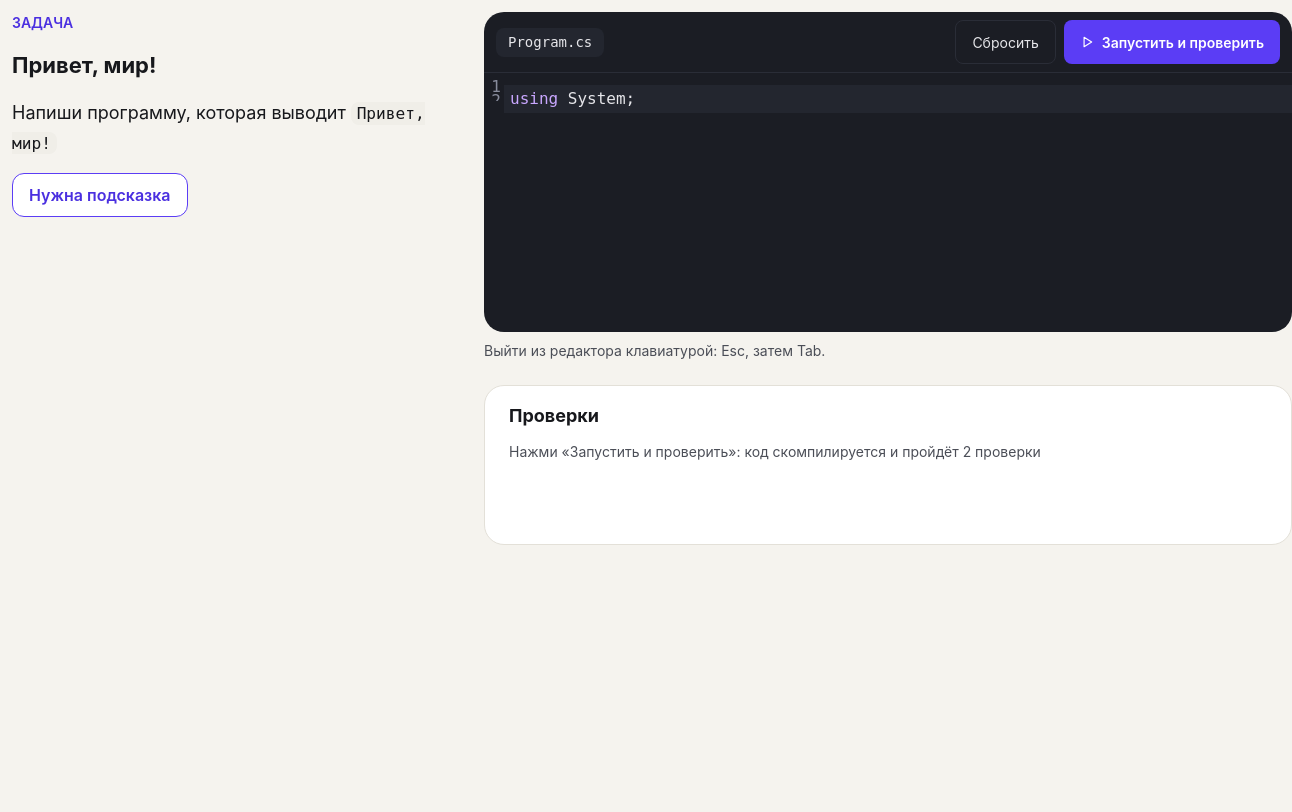
Test case: LessonTask › ошибка компиляции — объяснение по-русски со строкой и оригиналом
This screenshot has width=1292, height=812.
Click the button "Запустить и проверить" at (1172, 42), box [1064,20,1280,64]
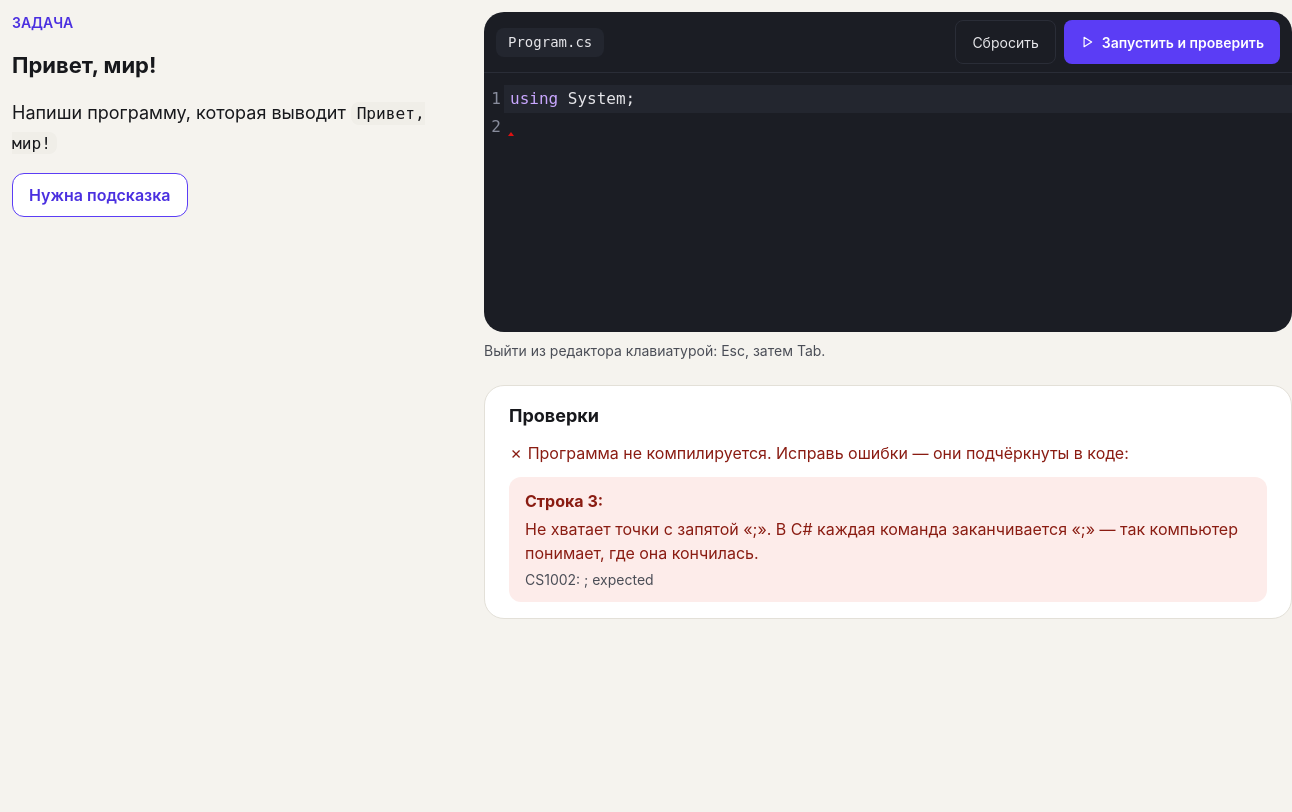
Expected: the text "Строка 3: Не хватает точки с запятой «;»." is shown, [509,477,1267,602]
Expected: the text "CS1002: ; expected" is shown, [525,571,654,588]
